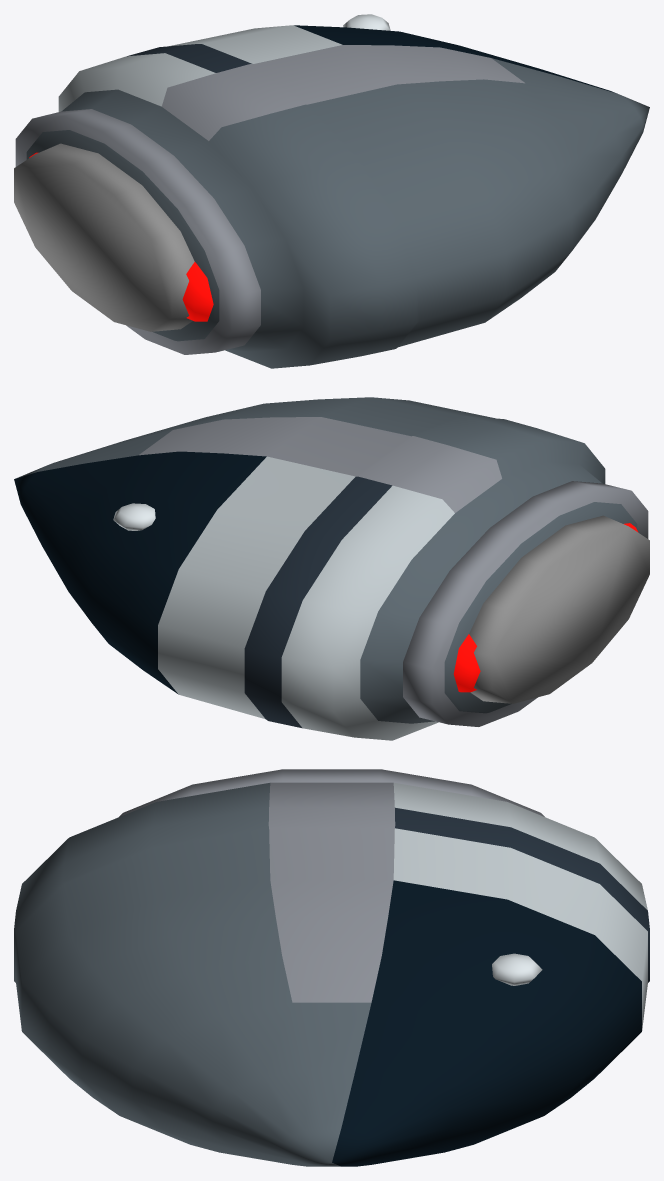
Rendered from newsha-163.glb.
3 renders of one model, top to bottom at view 1: azimuth 30°, elevation 25°; view 2: azimuth 150°, elevation 25°; view 3: azimuth 270°, elevation 25°, orthographic. The views are drawn at different scales.
Parts seen in each view (by area): view 1: newsha-163; view 2: newsha-163; view 3: newsha-163.
Boxes of the visible parts, x1,y1,x2,y2 form: newsha-163: (14, 14, 649, 368); newsha-163: (14, 397, 649, 740); newsha-163: (14, 769, 649, 1166).
Size of the model in its own units: 1.51 by 0.5885 by 1.31.
